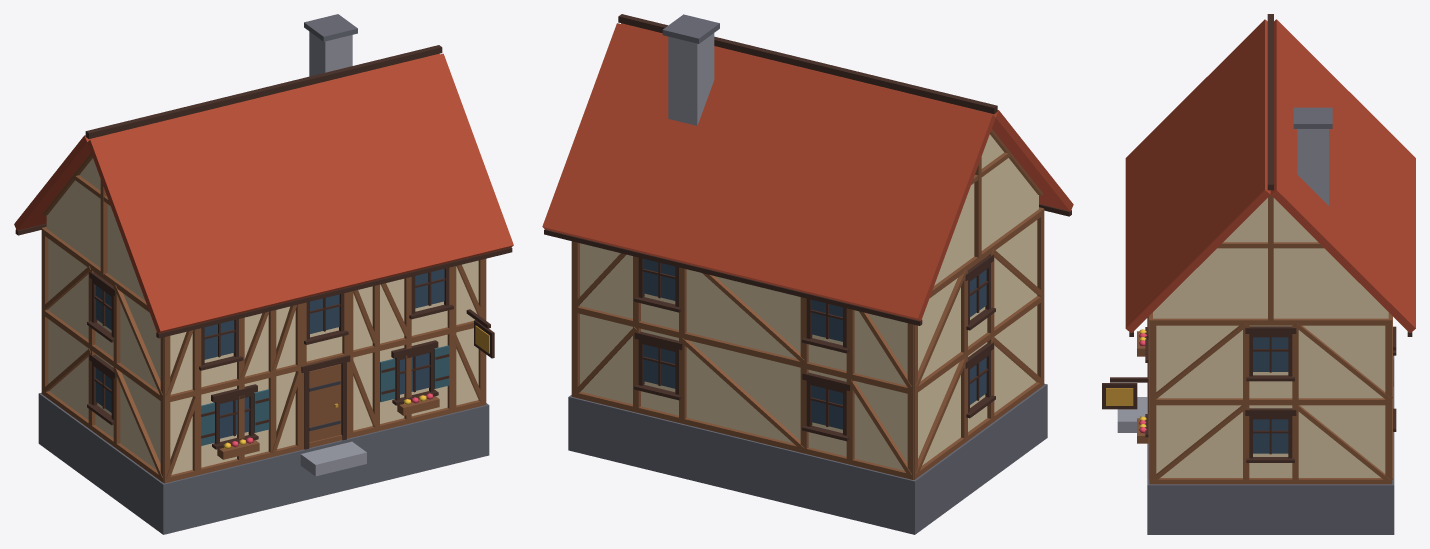
Rendered from tavern.glb.
3 views of the same model, side by side, from view 1: azimuth 30°, elevation 25°; view 2: azimuth 150°, elevation 25°; view 3: azimuth 270°, elevation 25° (orthographic). The views are drawn at different scales.
Parts seen in each view (by area): view 1: footing; view 2: footing; view 3: footing.
Boxes of the visible parts, x1,y1,x2,y2 form: footing: (14,14,513,534); footing: (542,14,1073,534); footing: (1102,14,1415,534).
Bounding box in the file's own units: 10.3 × 10.77 × 8.
